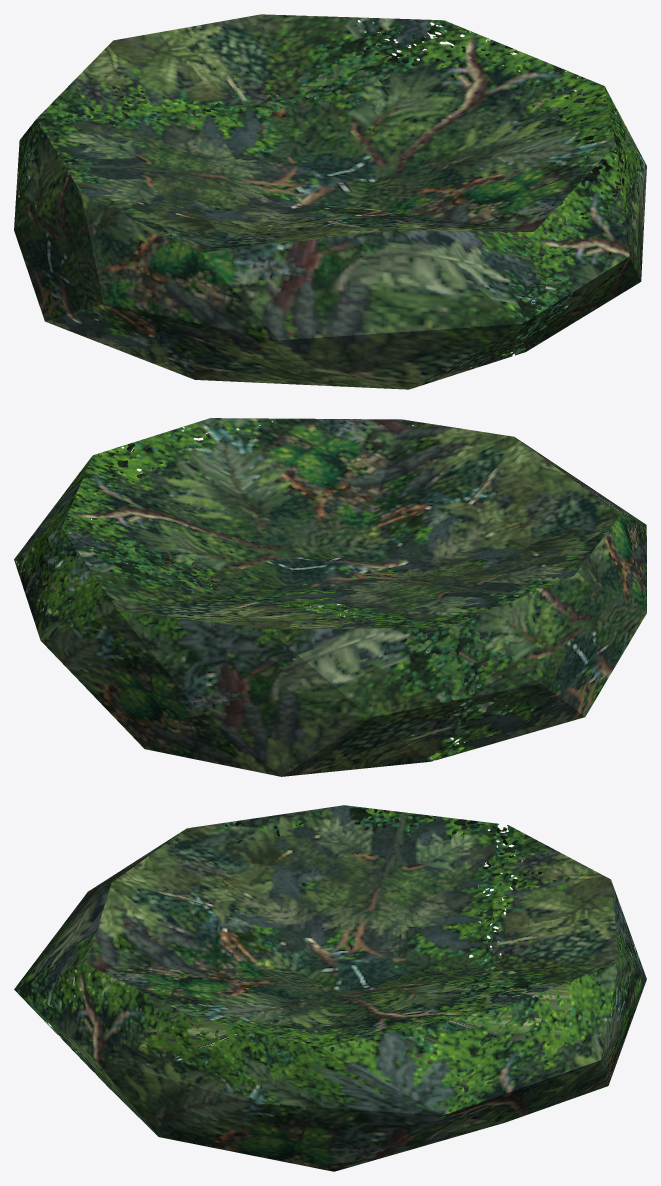
File: MTree_1_Bch_1.gltf
3 renders of one model, top to bottom at view 1: azimuth 30°, elevation 25°; view 2: azimuth 150°, elevation 25°; view 3: azimuth 270°, elevation 25°, orthographic. The views are drawn at different scales.
Visible parts, largest first — view 1: MTree_1_Bch_1; view 2: MTree_1_Bch_1; view 3: MTree_1_Bch_1.
Boxes of the visible parts, x1=… form: MTree_1_Bch_1: x1=14, y1=14, x2=646, y2=389; MTree_1_Bch_1: x1=14, y1=418, x2=646, y2=776; MTree_1_Bch_1: x1=14, y1=805, x2=646, y2=1171.
Size of the model in its own units: 11.31 by 3.1 by 11.93.
Materials: 1 (1 with a texture image).
